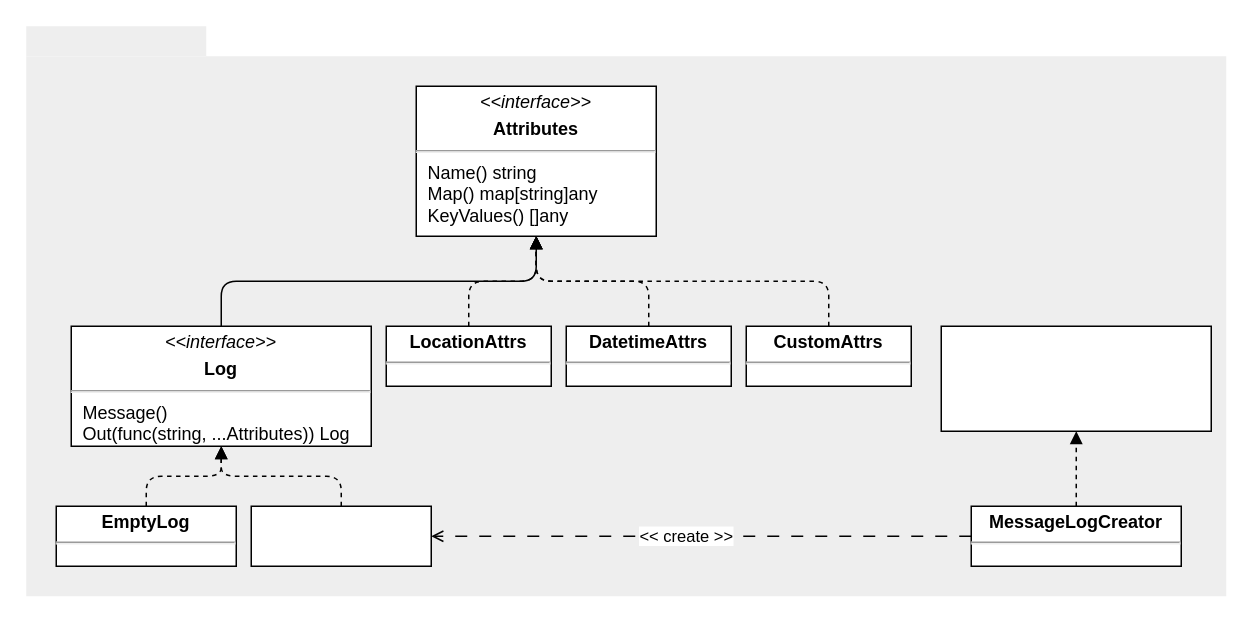
Some shapes in this 1251 by 621 pixel diagram are drawn without their labels. Each missing label, with the box of its shape:
<<interface>> Creator New(string, ...Attributes) Log: (940, 325, 1211, 431)
kernel/log: (26, 26, 206, 56)
MessageLog: (250, 505, 431, 566)
